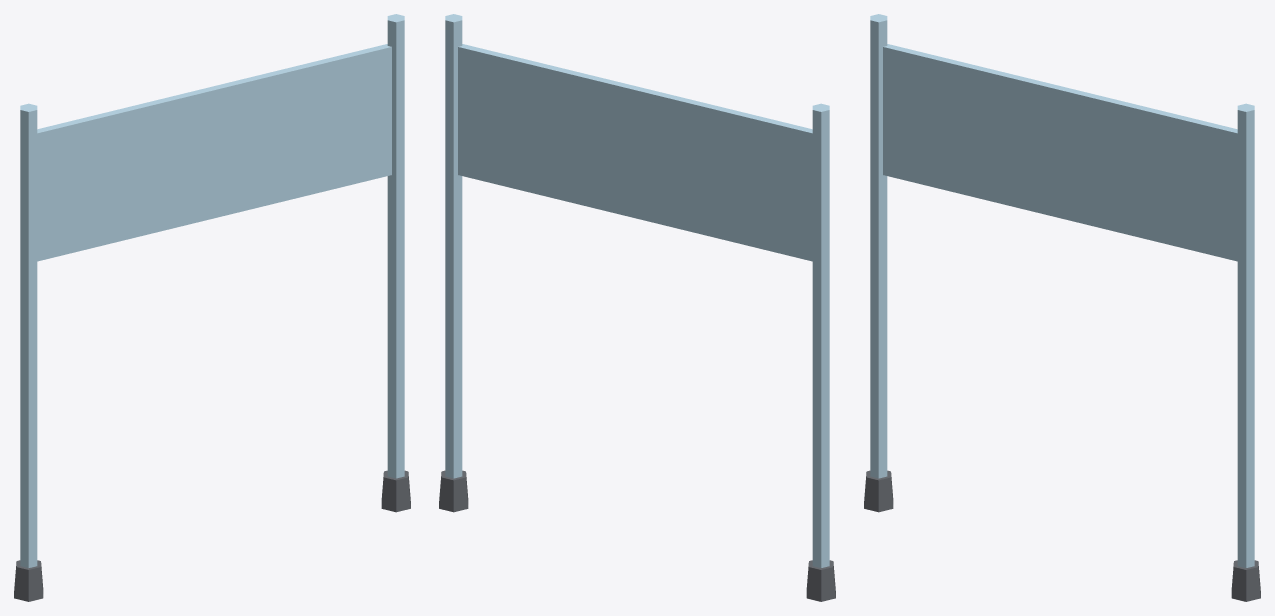
File: gateblue.glb
3 renders of one model, left to right at view 1: azimuth 30°, elevation 25°; view 2: azimuth 150°, elevation 25°; view 3: azimuth 330°, elevation 25°, orthographic.
Parts seen in each view (by area): view 1: race-gate-blue; view 2: race-gate-blue; view 3: race-gate-blue.
Part boxes in pixels (box(x1,y1,x2,y2)): race-gate-blue: box(14, 14, 410, 601); race-gate-blue: box(439, 14, 835, 601); race-gate-blue: box(864, 14, 1260, 601).
Size of the model in its own units: 1.62 by 1.9 by 0.1038.
